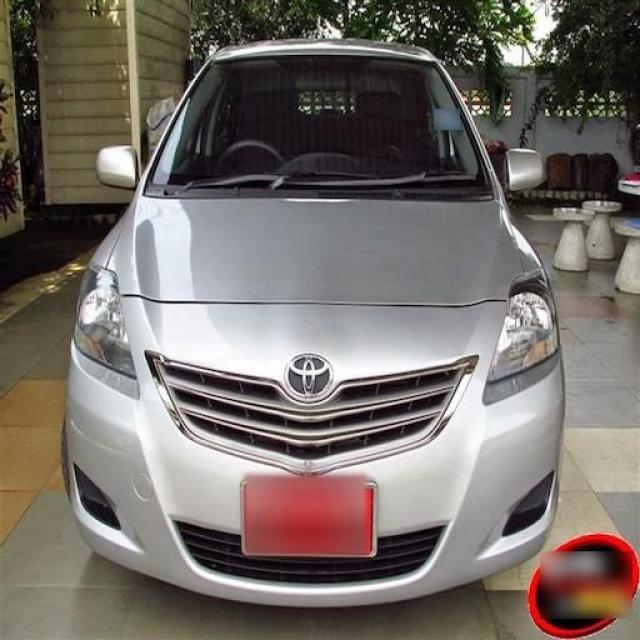front_bumper: (67, 296, 564, 607)
front_glass: (140, 54, 497, 203)
front_left_light: (488, 269, 559, 382)
front_right_light: (75, 261, 135, 379)
hood: (106, 196, 524, 304)
left_mirror: (503, 147, 546, 194)
right_mirror: (97, 147, 139, 190)
